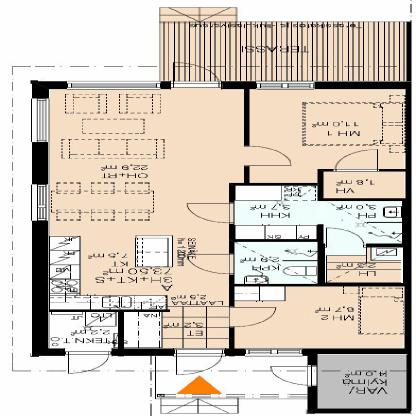door: (172, 61, 224, 88), (332, 149, 385, 174), (172, 349, 216, 378), (264, 365, 318, 388), (186, 253, 238, 276), (67, 348, 111, 375), (228, 305, 279, 328), (244, 147, 298, 168), (186, 201, 234, 223), (323, 227, 368, 247)
window: (64, 78, 160, 89), (30, 98, 48, 141), (30, 184, 49, 222), (256, 80, 316, 89), (241, 348, 304, 356), (245, 349, 301, 356)
zone: (45, 89, 227, 305), (229, 88, 400, 186), (237, 184, 403, 281), (160, 20, 408, 82), (232, 286, 400, 348), (150, 356, 310, 399), (322, 354, 405, 410), (124, 311, 230, 349), (235, 243, 317, 282), (48, 311, 116, 351), (324, 172, 402, 196)
